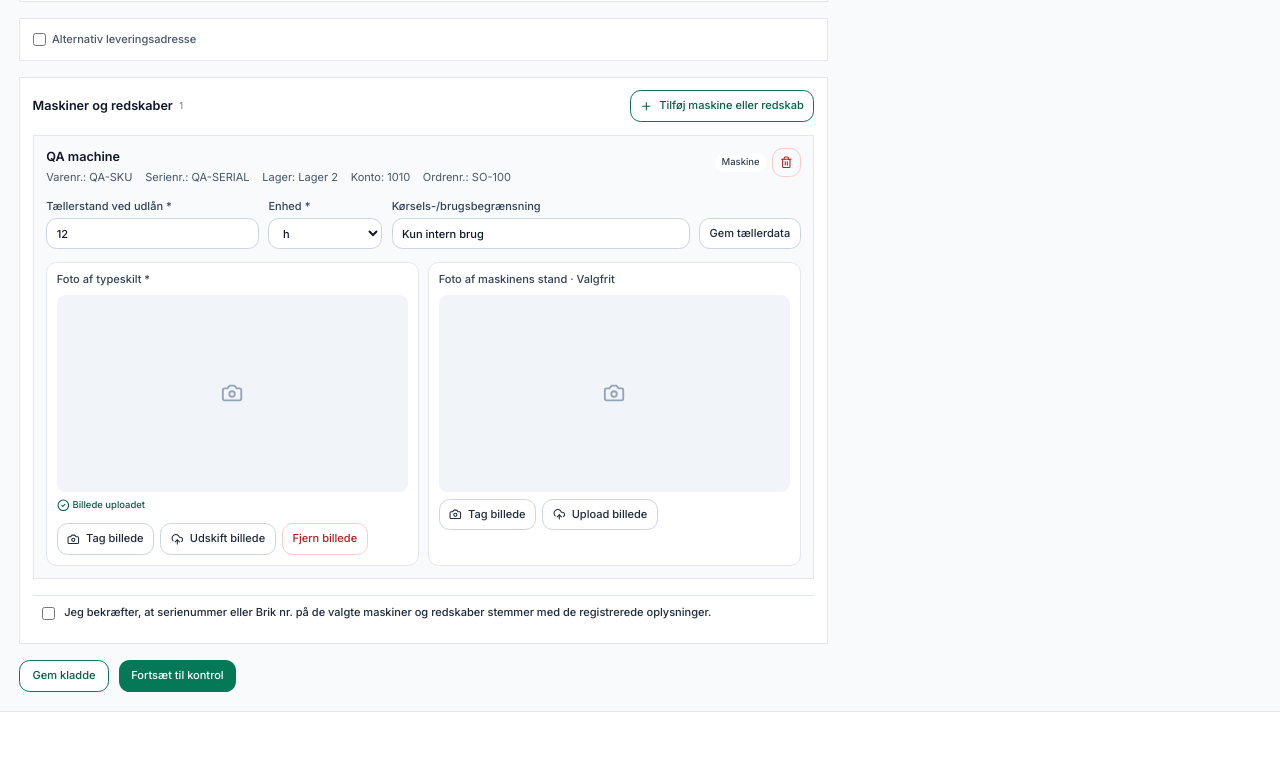
Loan form interactions › waits for successful server review before returning to the freshly loaded overview
Later steps or results of the test are not shown.
(page scrolled)
Click the checkbox labelled "Jeg bekræfter, at serienummer eller Brik nr.": click(48, 613) x1=42 y1=607 x2=55 y2=620
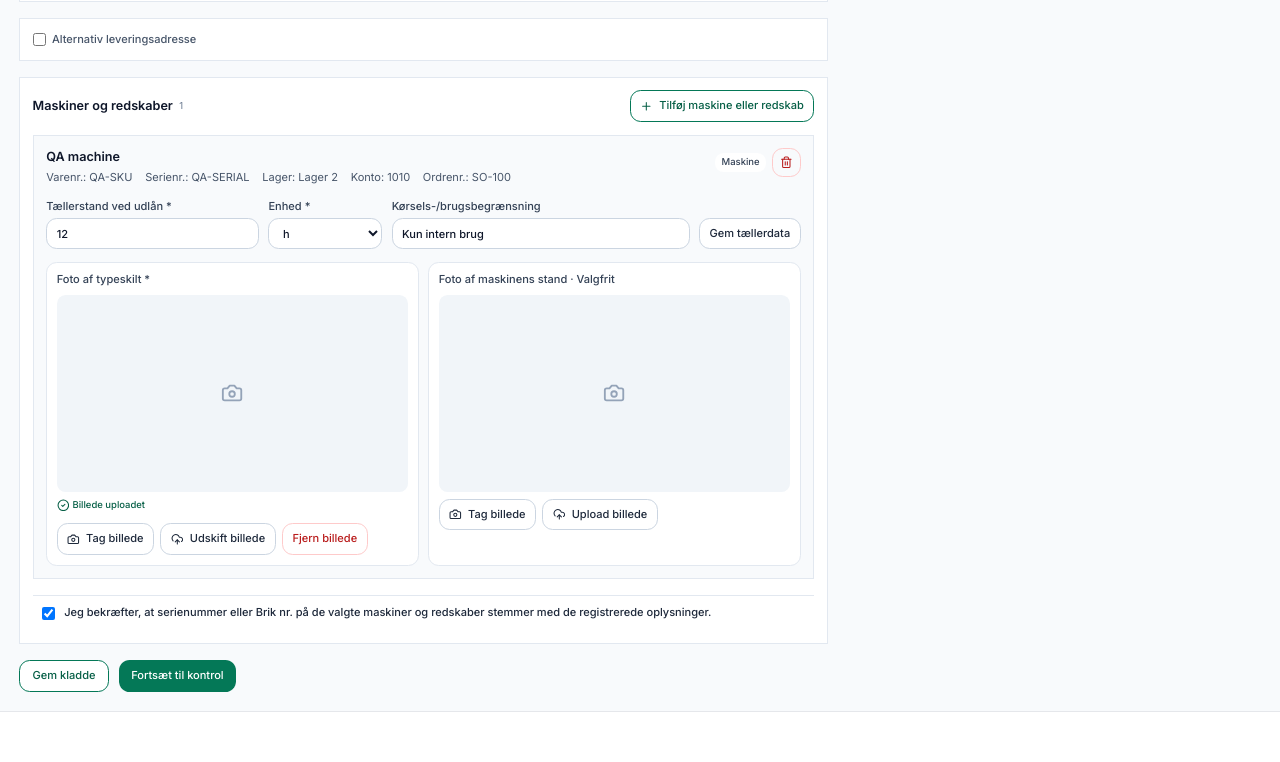
Click the button "Fortsæt til kontrol": click(177, 676) x1=119 y1=660 x2=236 y2=692
(page scrolled)
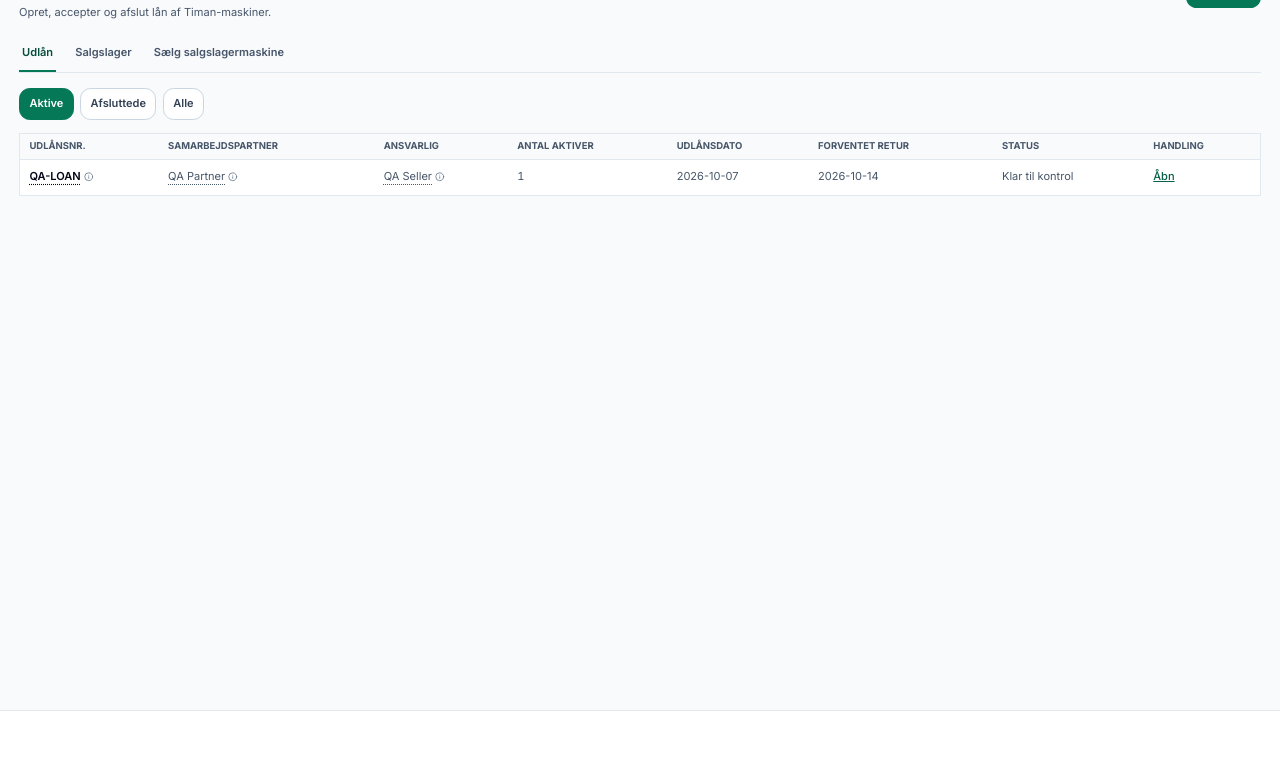
expect the text "QA-LOAN" is shown 2 times: met
expect the text "Klar til kontrol" is shown 2 times: met
expect the button "Fortsæt til kontrol" is gone: met
